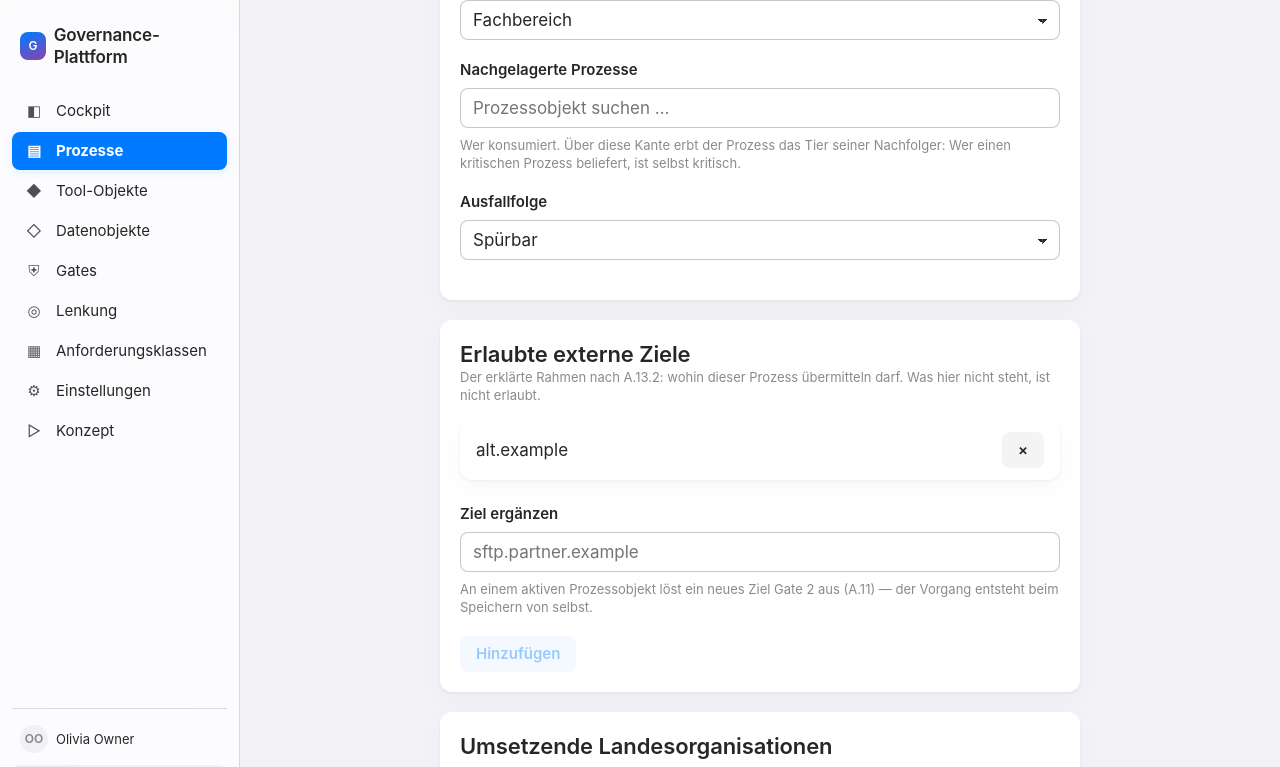
Test: Erklärter Rahmen am Prozessobjekt (V-PRO-23) › entfernt ein Ziel wieder
(page scrolled)
Click the button named "alt.example — Entfernen" at (1023, 450), box [1002, 432, 1044, 468]
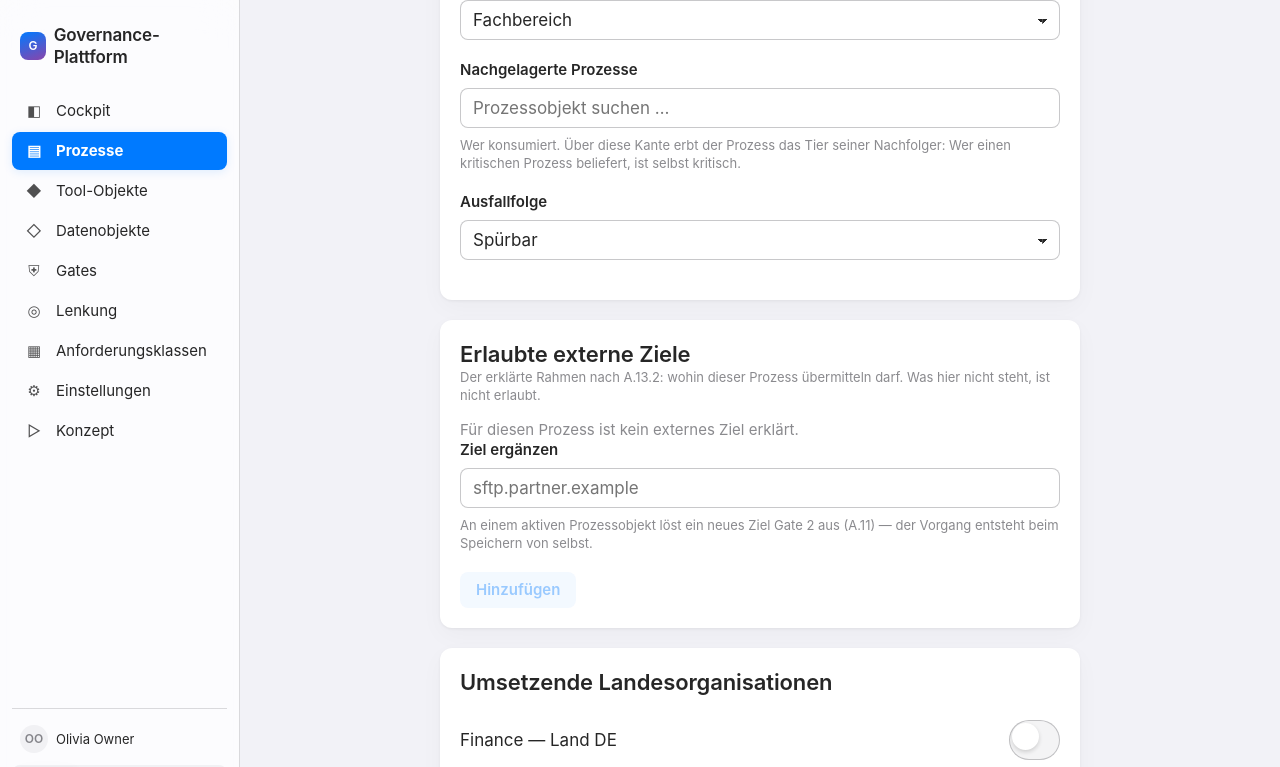
Check: the text "Für diesen Prozess ist kein externes Ziel erklärt." is shown, box [460, 420, 799, 439]
